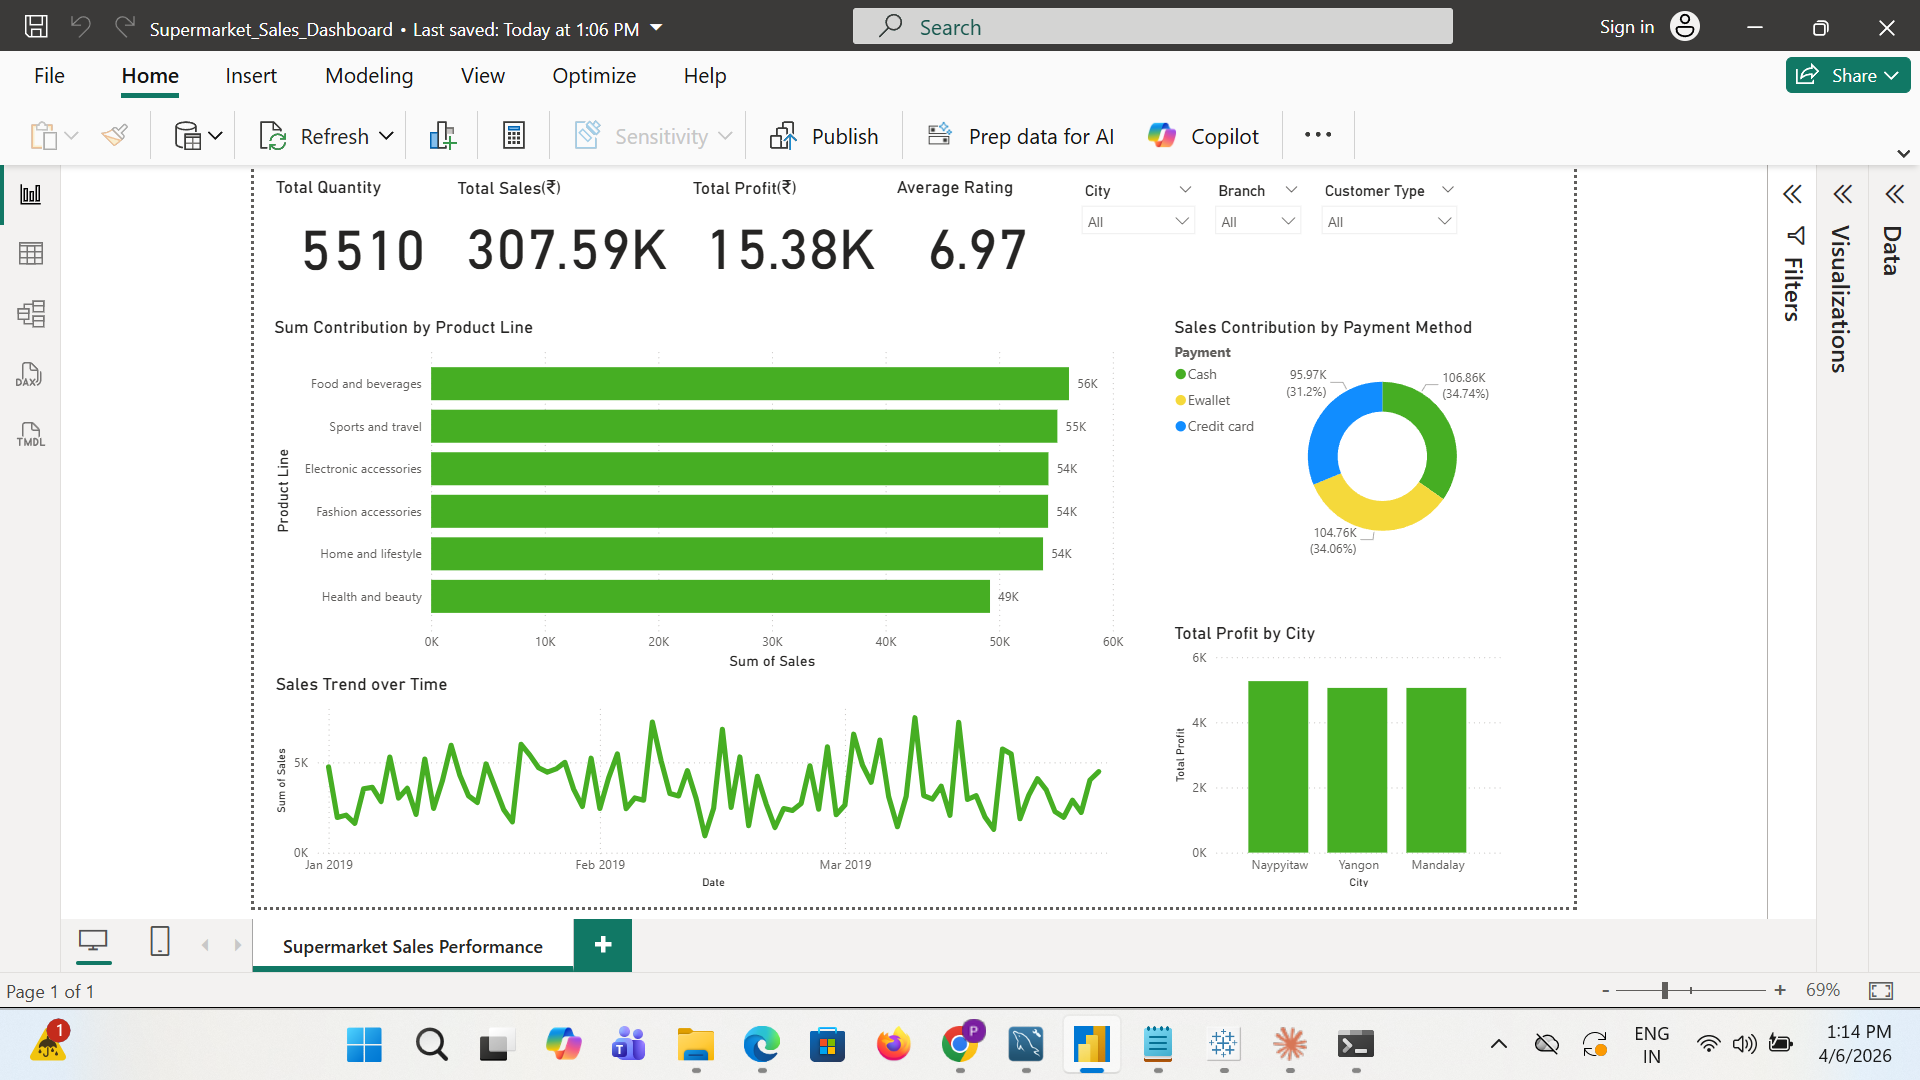

This screenshot's page, from the dashboard's own definition file:
{"tool":"powerbi","page":{"name":"Supermarket Sales Performance","canvas":[1280,720],"ordinal":0},"visuals":[{"type":"card","title":"Total Sales(₹)","fields":{"Values":["SuperMarket Analysis.Total Sales"]},"box":[192.2,10.9,221.9,106.2],"z":0},{"type":"card","title":"Total Profit(₹)","fields":{"Values":["SuperMarket Analysis.Total Profit"]},"box":[420.3,10.9,198.4,106.2],"z":1000},{"type":"card","title":"Total Quantity","fields":{"Values":["SuperMarket Analysis.Total Quantity"]},"box":[15.6,10.9,176.6,109.4],"z":2000},{"type":"card","title":"Average Rating","fields":{"Values":["SuperMarket Analysis.Average Rating"]},"box":[618.8,10.9,165.6,106.2],"z":3000},{"type":"barChart","title":"Sum Contribution by Product Line","fields":{"Category":["SuperMarket Analysis.Product Line"],"Y":["Sum(SuperMarket Analysis.Sales)"]},"box":[15.1,146.9,834.3,346.8],"z":4000},{"type":"columnChart","fields":{"Category":["SuperMarket Analysis.City"],"Y":["SuperMarket Analysis.Total Profit"]},"box":[887.3,443.7,327.1,262],"z":5000},{"type":"lineChart","title":"Sales Trend over Time","fields":{"Y":["Sum(SuperMarket Analysis.Sales)"],"Category":["SuperMarket Analysis.Date"]},"box":[15.6,493.8,834.4,212.5],"z":6000},{"type":"donutChart","title":"Sales Contribution by Payment Method","fields":{"Category":["SuperMarket Analysis.Payment"],"Y":["SuperMarket Analysis.Total Sales"]},"box":[887.3,146.9,327.1,251.4],"z":7000},{"type":"slicer","fields":{"Values":["SuperMarket Analysis.City"]},"box":[793.8,10.9,129.7,71.9],"z":8000},{"type":"slicer","fields":{"Values":["SuperMarket Analysis.Branch"]},"box":[923.4,10.9,103.1,67.2],"z":9000},{"type":"slicer","fields":{"Values":["SuperMarket Analysis.Customer Type"]},"box":[1026.6,10.9,151.6,68.8],"z":10000}]}

Visuals, with their boxes on the page's 1280x720 design canvas (x1, y1, x2, y2). These are canvas units, not pixel positions in the 1920x1080 screenshot, which may show the page scaled, cropped or inside an application window:
"Total Sales(₹)" card: <region>192, 11, 414, 117</region>
"Total Profit(₹)" card: <region>420, 11, 619, 117</region>
"Total Quantity" card: <region>16, 11, 192, 120</region>
"Average Rating" card: <region>619, 11, 784, 117</region>
"Sum Contribution by Product Line" barChart: <region>15, 147, 849, 494</region>
columnChart - SuperMarket Analysis.City x SuperMarket Analysis.Total Profit: <region>887, 444, 1214, 706</region>
"Sales Trend over Time" lineChart: <region>16, 494, 850, 706</region>
"Sales Contribution by Payment Method" donutChart: <region>887, 147, 1214, 398</region>
slicer - SuperMarket Analysis.City: <region>794, 11, 924, 83</region>
slicer - SuperMarket Analysis.Branch: <region>923, 11, 1026, 78</region>
slicer - SuperMarket Analysis.Customer Type: <region>1027, 11, 1178, 80</region>
